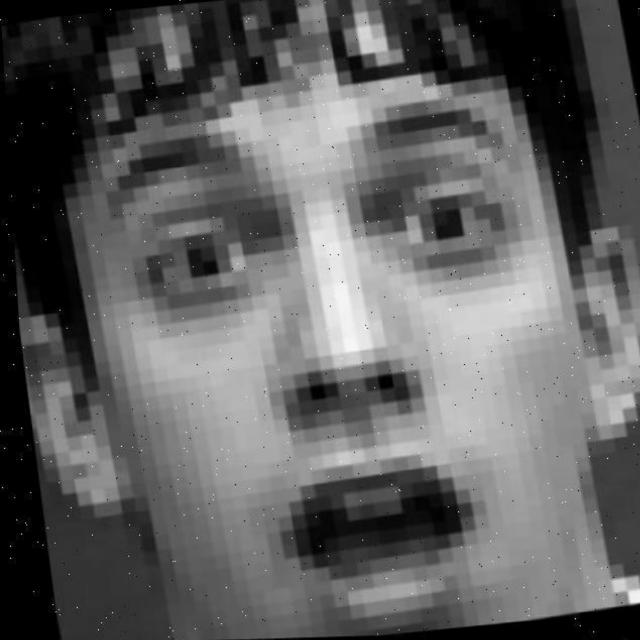Surprised: (47, 53, 640, 640)
